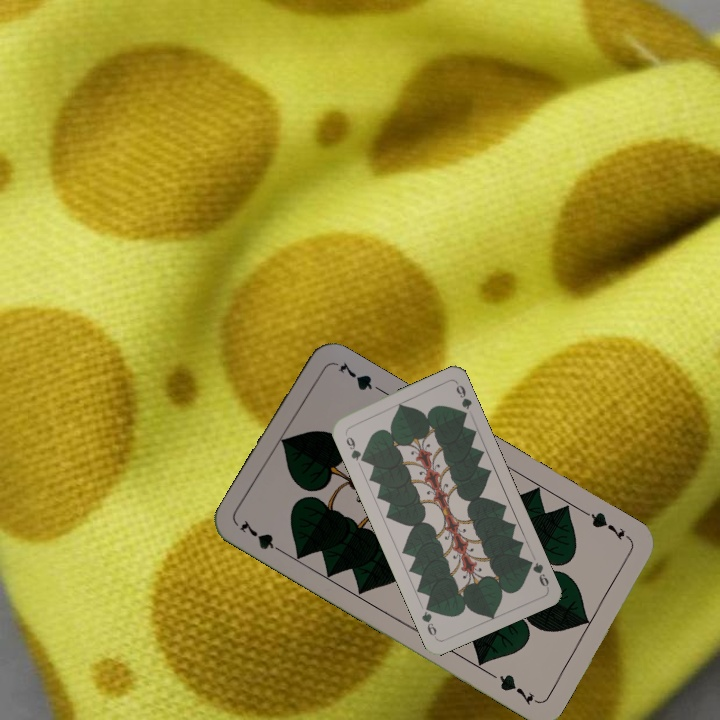G7: (235, 516, 289, 558), (581, 507, 634, 544)
G9: (522, 555, 551, 591), (341, 428, 368, 465)
